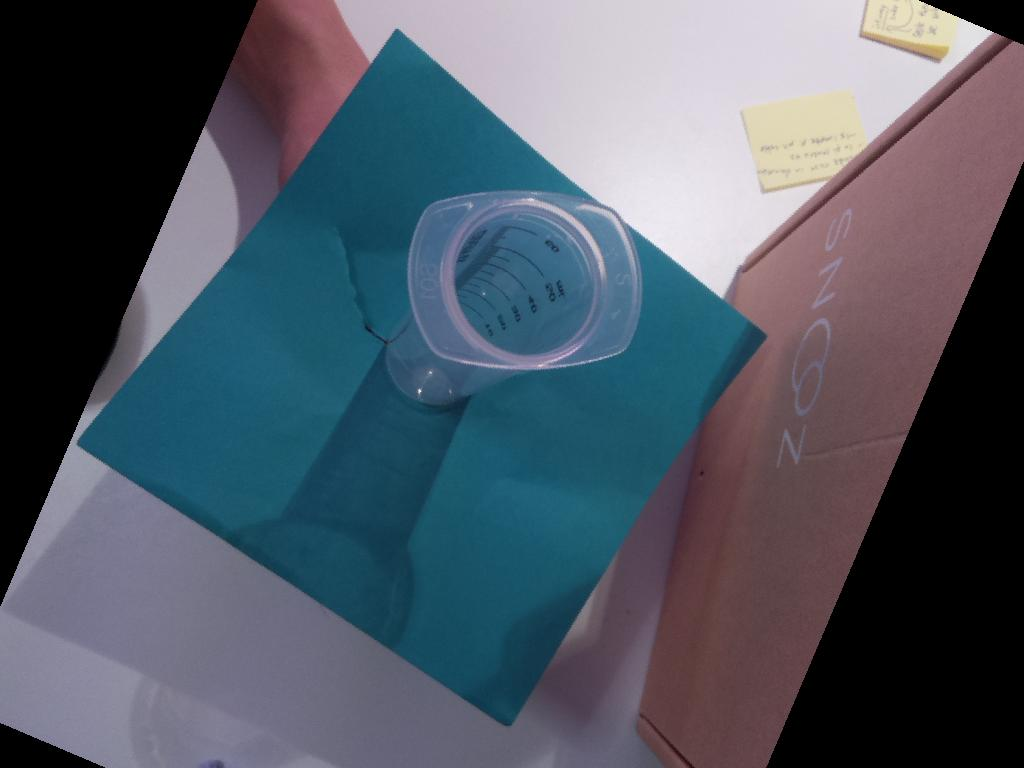clean: (406, 188, 645, 368)
